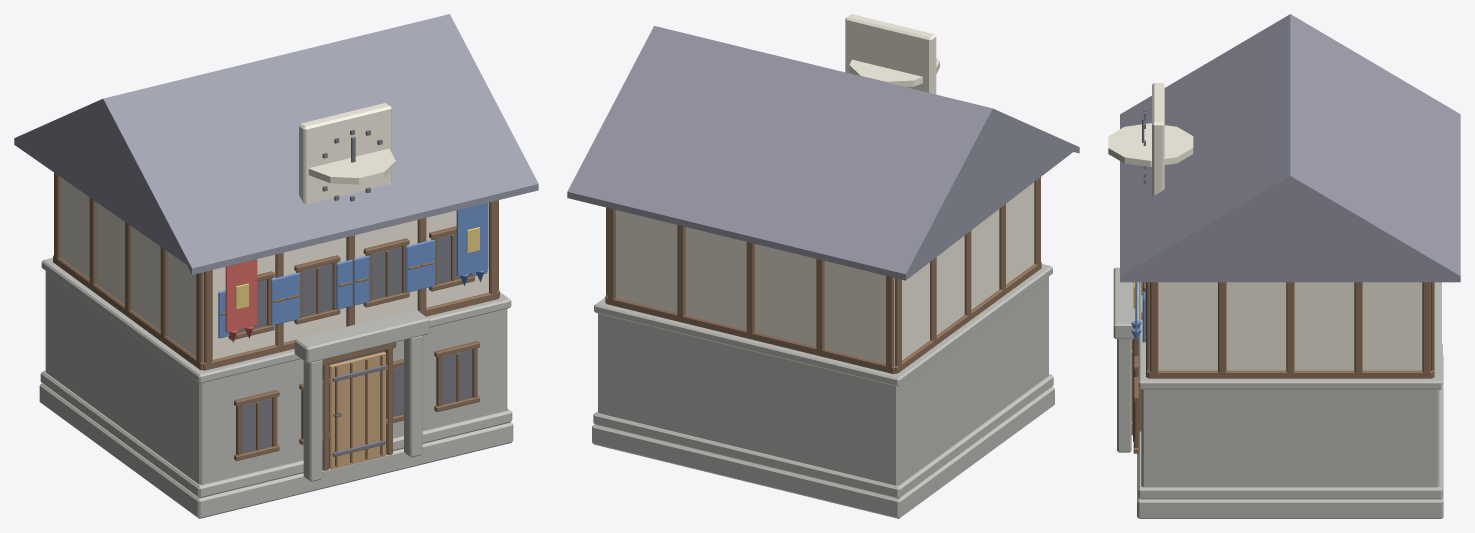
File: town-hall.glb
The picture shows the model from 3 angles, left to right: view 1: azimuth 30°, elevation 25°; view 2: azimuth 150°, elevation 25°; view 3: azimuth 270°, elevation 25°; orthographic projection. The views are drawn at different scales.
Visible parts, largest first — view 1: town-hall, door/wood, banner/red, door/timber, door/iron; view 2: town-hall; view 3: town-hall.
Part boxes in pixels (bbox=[...]): town-hall: bbox=[14, 14, 538, 518]; door/wood: bbox=[329, 351, 386, 469]; banner/red: bbox=[225, 259, 257, 342]; door/timber: bbox=[335, 355, 382, 466]; door/iron: bbox=[332, 365, 385, 456]; town-hall: bbox=[567, 14, 1079, 518]; town-hall: bbox=[1108, 14, 1460, 518].
Size of the model in its own units: 9 by 9.1 by 8.28.
